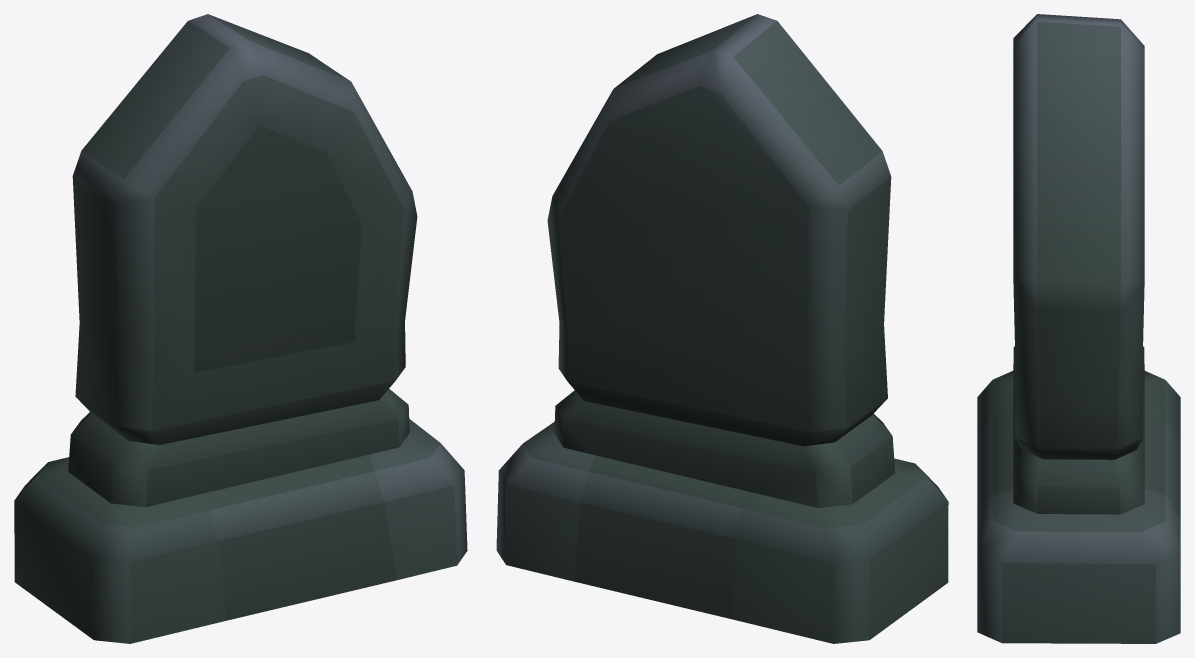
The model's file is undead_tomb_stone_5.fbx.
3 renders of one model, left to right at view 1: azimuth 30°, elevation 25°; view 2: azimuth 150°, elevation 25°; view 3: azimuth 270°, elevation 25°, orthographic. The views are drawn at different scales.
Parts seen in each view (by area): view 1: undead_tomb_stone_5; view 2: undead_tomb_stone_5; view 3: undead_tomb_stone_5.
Boxes of the visible parts, box(x1,y1,x2,y2) form: undead_tomb_stone_5: box(14, 14, 467, 643); undead_tomb_stone_5: box(496, 14, 948, 643); undead_tomb_stone_5: box(977, 14, 1180, 643).
Size of the model in its own units: 1.13 by 1.57 by 0.5478.
